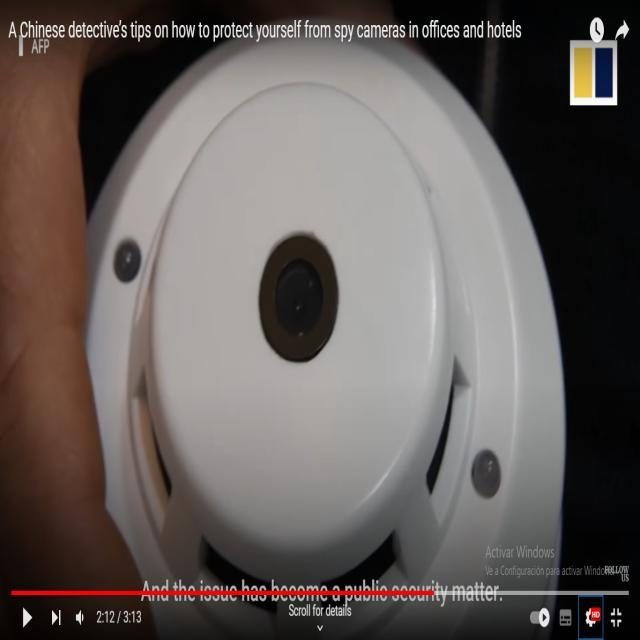hidden camera: (276, 263, 325, 335)
